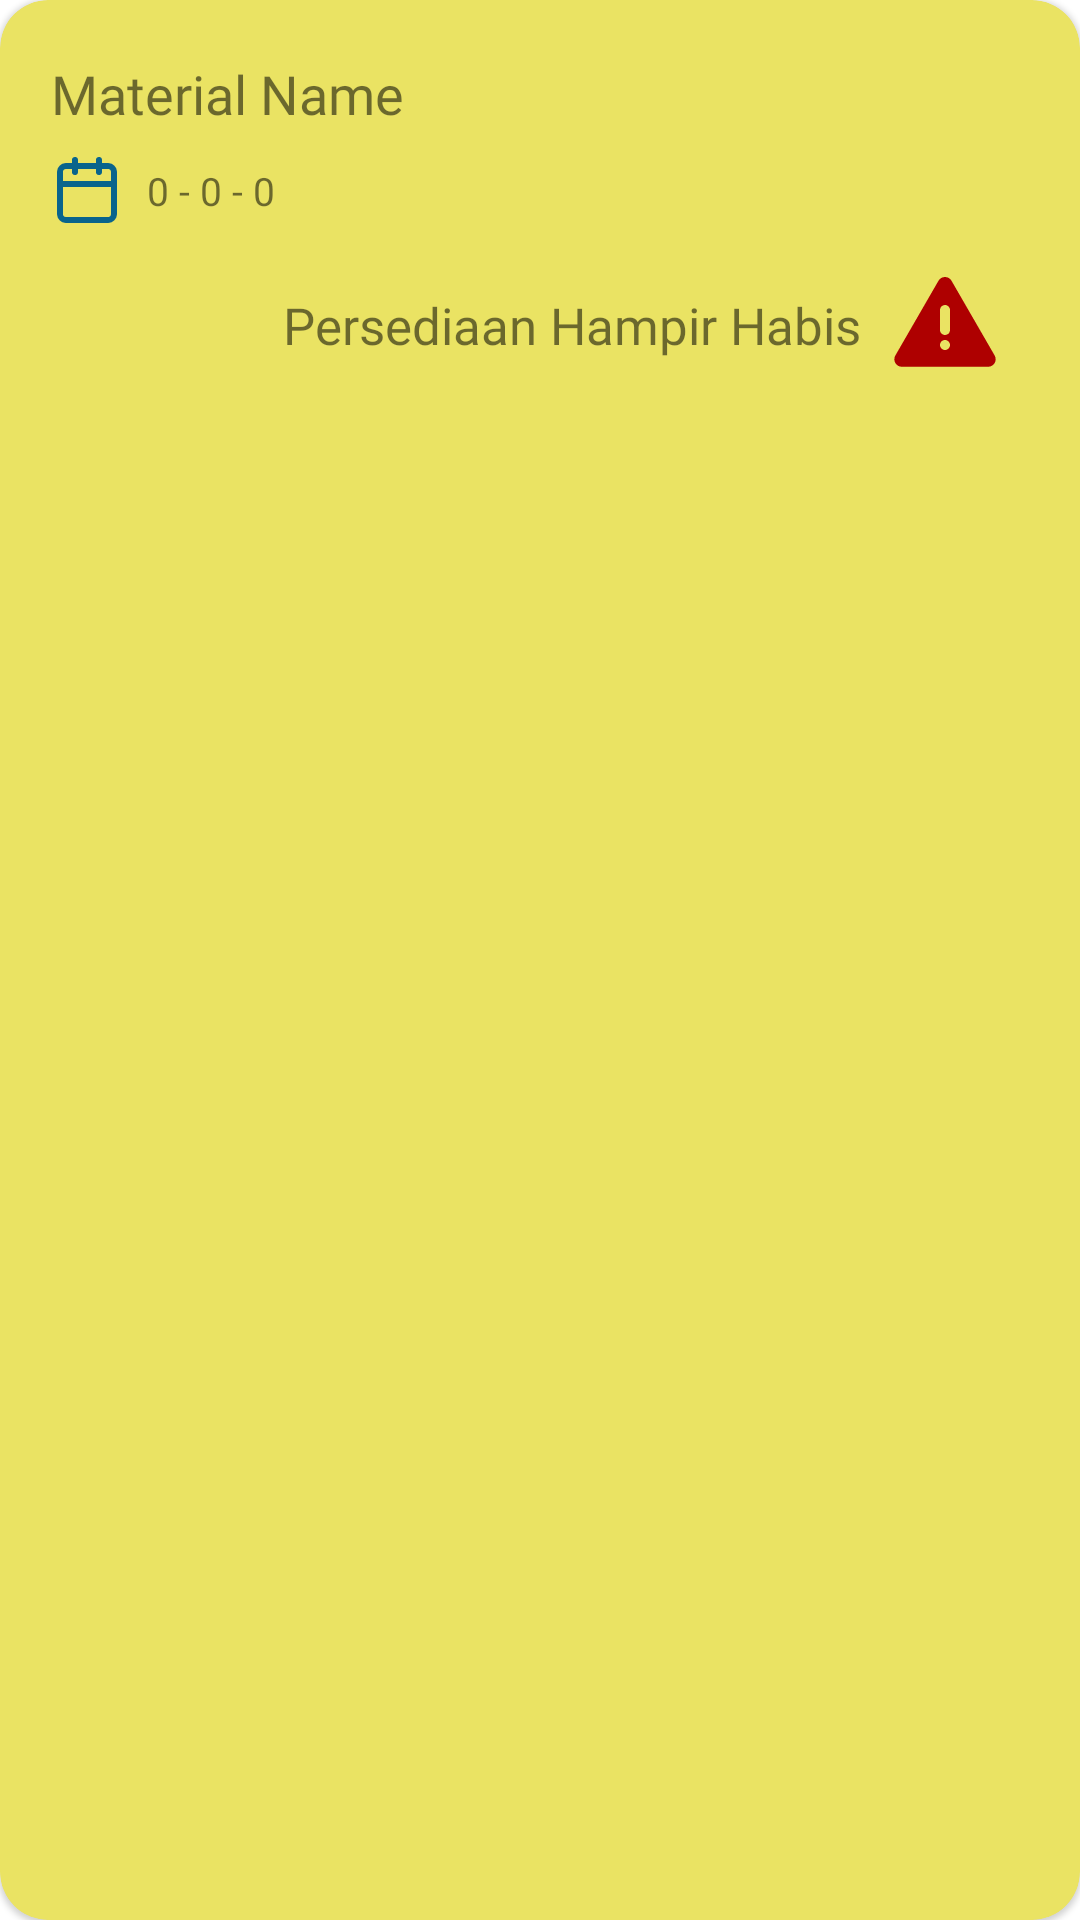

Icons on this 1080px x 1920px Android screen, each with the point to tap as (x=x, y=y):
alert: (x=945, y=322)
calendar: (x=87, y=190)
